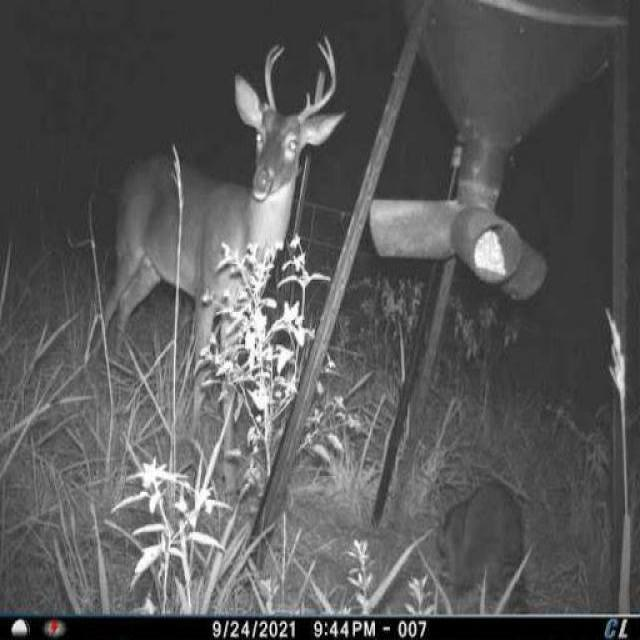deer: (89, 43, 338, 525)
